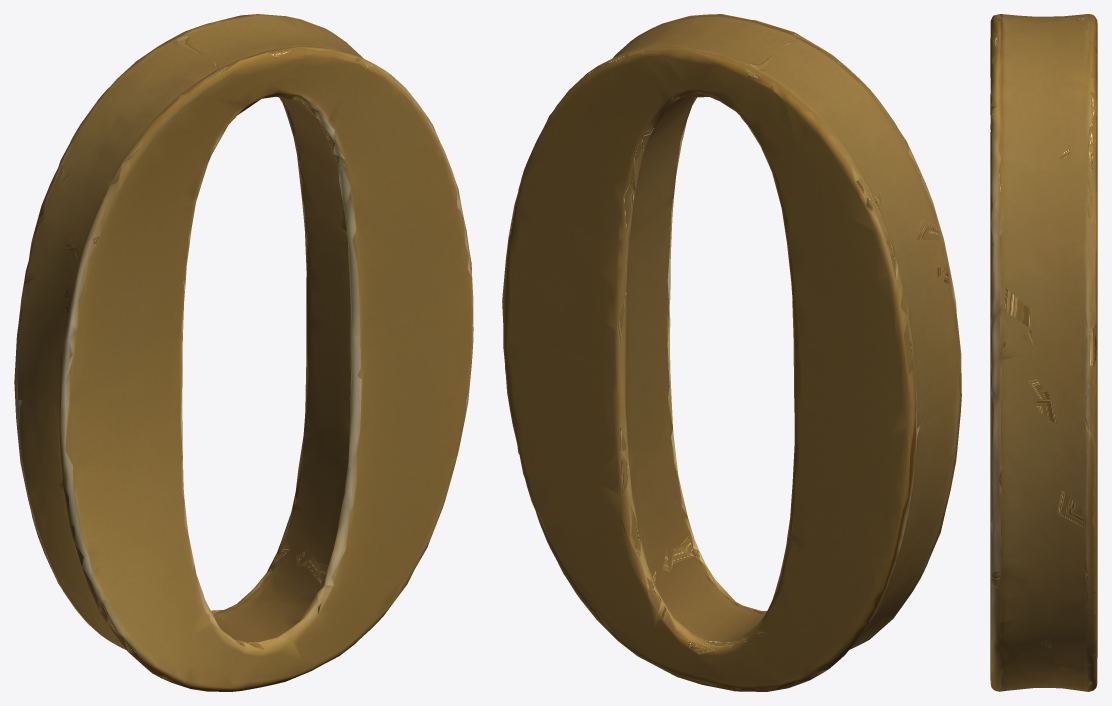
Rendered from letter_o.glb.
The picture shows the model from 3 angles, left to right: view 1: azimuth 30°, elevation 25°; view 2: azimuth 150°, elevation 25°; view 3: azimuth 270°, elevation 25°; orthographic projection.
Parts seen in each view (by area): view 1: tripo_node_b014ee47-ecbf-403a-9f54-e62a1906c248; view 2: tripo_node_b014ee47-ecbf-403a-9f54-e62a1906c248; view 3: tripo_node_b014ee47-ecbf-403a-9f54-e62a1906c248.
Part boxes in pixels (x1=…): tripo_node_b014ee47-ecbf-403a-9f54-e62a1906c248: x1=14, y1=14, x2=473, y2=691; tripo_node_b014ee47-ecbf-403a-9f54-e62a1906c248: x1=502, y1=14, x2=961, y2=691; tripo_node_b014ee47-ecbf-403a-9f54-e62a1906c248: x1=990, y1=14, x2=1097, y2=691.
Bounding box in the file's own units: 0.6848 × 1 × 0.1526.
Materials: 1 (1 with a texture image).
